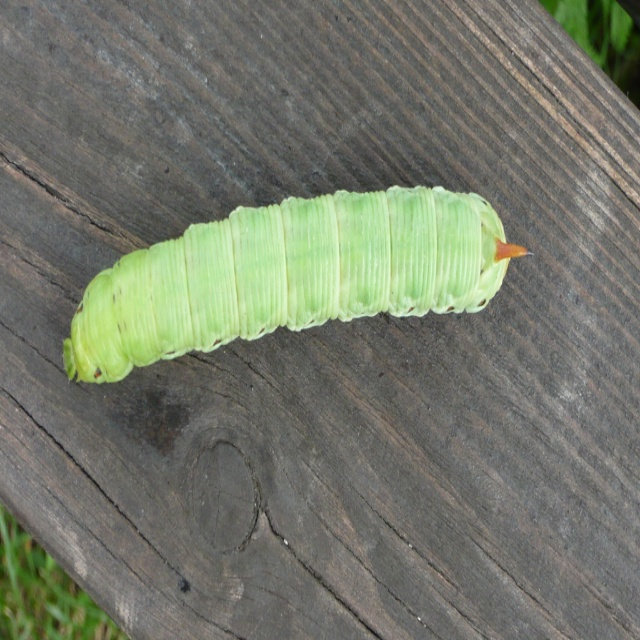Caterpillar: (60, 190, 534, 384)
